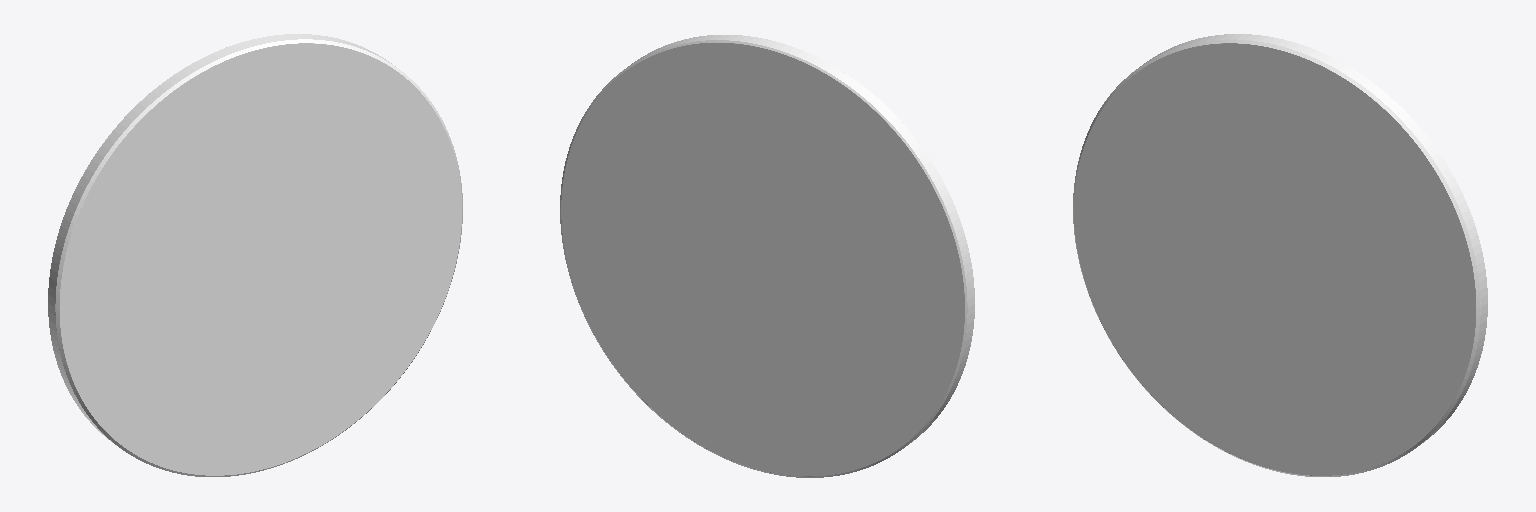
The model's file is 11721_darboard_V4_L3.obj.
The picture shows the model from 3 angles: view 1: azimuth 30°, elevation 25°; view 2: azimuth 150°, elevation 25°; view 3: azimuth 330°, elevation 25°; orthographic projection.
Visible parts, largest first — view 1: 11721_darboard_model; view 2: 11721_darboard_model; view 3: 11721_darboard_model.
Part boxes in pixels (bbox=[...]): 11721_darboard_model: bbox=[48, 34, 462, 476]; 11721_darboard_model: bbox=[560, 35, 974, 477]; 11721_darboard_model: bbox=[1073, 34, 1487, 476].
Size of the model in its own units: 53.5 by 53.5 by 2.21.